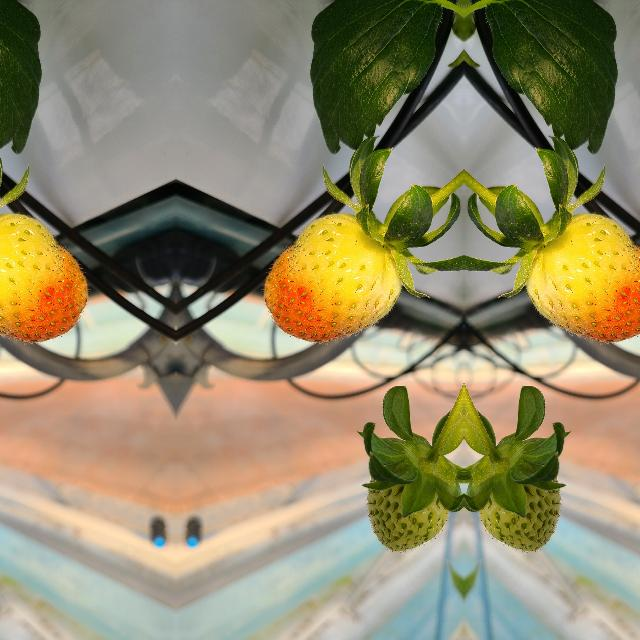Health_25: (364, 454, 448, 554), (478, 454, 562, 554)
Health_50: (264, 213, 400, 341), (526, 213, 640, 341), (0, 213, 86, 341)
